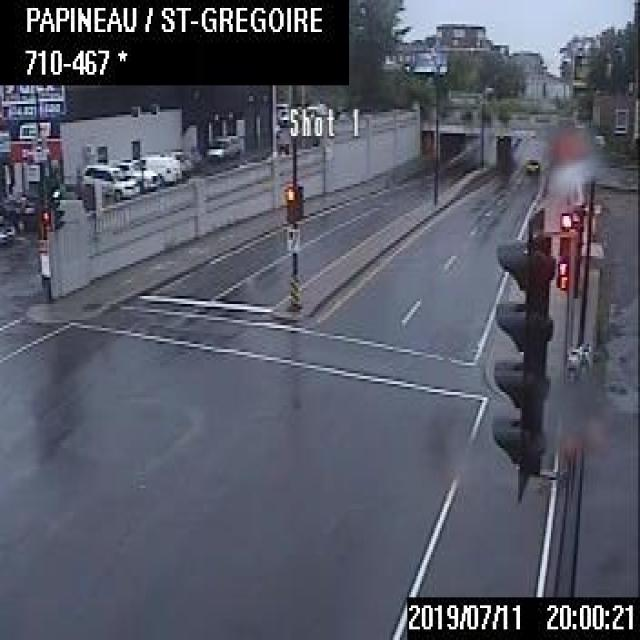vehicle: (82, 161, 139, 200), (117, 157, 158, 191), (139, 151, 182, 183), (204, 132, 245, 165), (524, 157, 538, 171)
